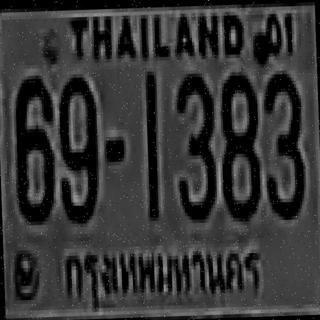N01: (143, 73, 159, 219)
N03: (260, 70, 305, 217), (173, 71, 215, 218)
N06: (12, 73, 54, 220)
N08: (217, 71, 259, 218)
N09: (56, 74, 98, 220)
P04: (60, 238, 266, 320)
